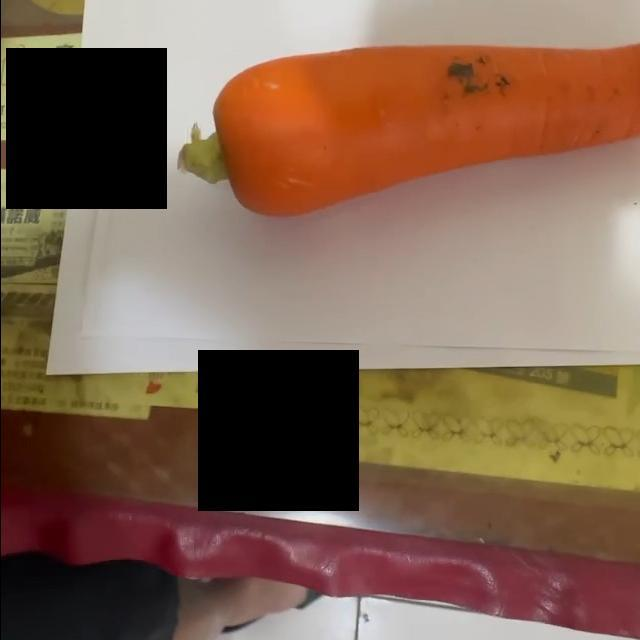carrot: (175, 36, 640, 220)
